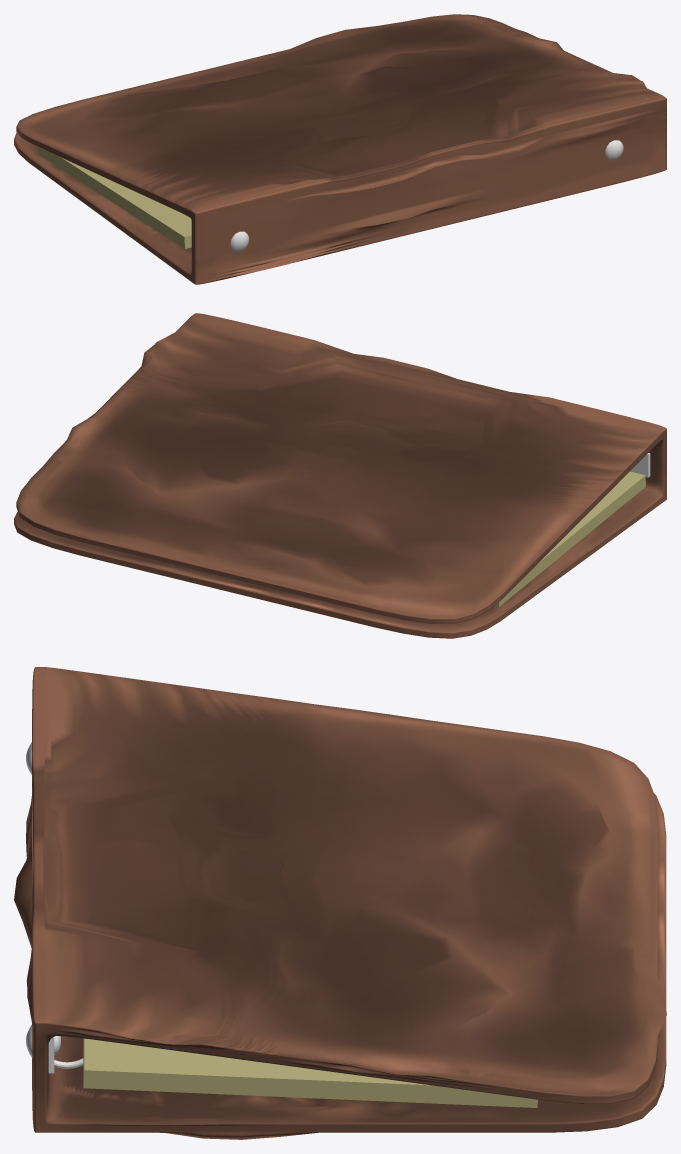
Rendered from Binder.fbx.
3 views of the same model, one above another, from view 1: azimuth 30°, elevation 25°; view 2: azimuth 150°, elevation 25°; view 3: azimuth 270°, elevation 25° (orthographic). The views are drawn at different scales.
Visible parts, largest first — view 1: Binder, Paper; view 2: Binder, Paper; view 3: Binder, Paper.
Part boxes in pixels (x1,y1,x2,y2): Binder: (14,14,666,284); Paper: (38,147,191,248); Binder: (14,313,666,638); Paper: (494,471,645,606); Binder: (14,667,666,1139); Paper: (83,1038,537,1107).
Bounding box in the file's own units: 272 × 42.86 × 207.
Materials: 3 (1 with a texture image).
